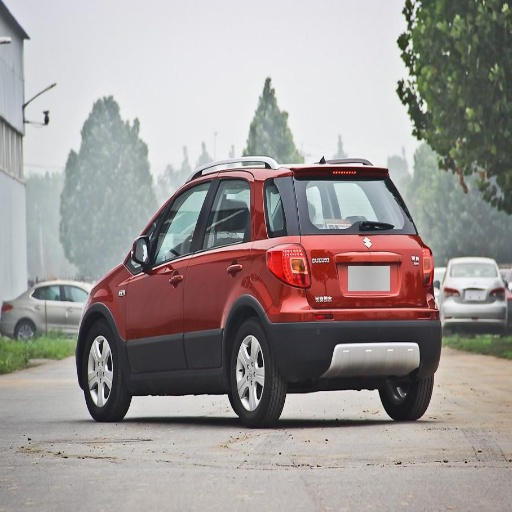back_bumper: (271, 288, 438, 375)
back_glass: (291, 178, 407, 230)
back_left_door: (188, 171, 260, 367)
trunk: (281, 232, 424, 318)
